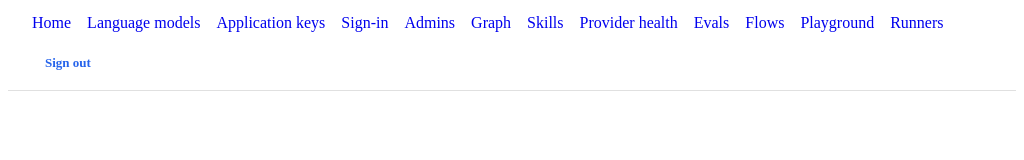
Scenario: sign-out is a POST, not a link › a refusal keeps the operator where they are and gives a client-side remedy
What coordinates should you click on to do the following:
click the button "Sign out"
I would click on:
 (68, 63)
Its box is [32,48,104,78].
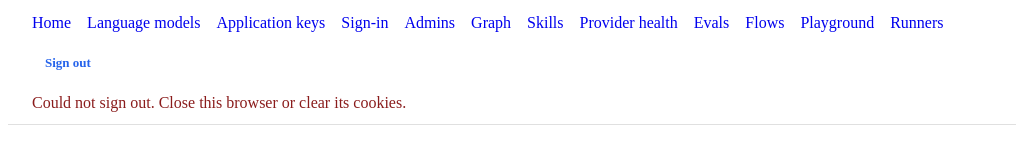
Expected: the message reads "Could not sign out. Close this browser or clear its cookies.", [32,94,406,111]
